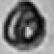correct: (5, 0, 46, 50)
